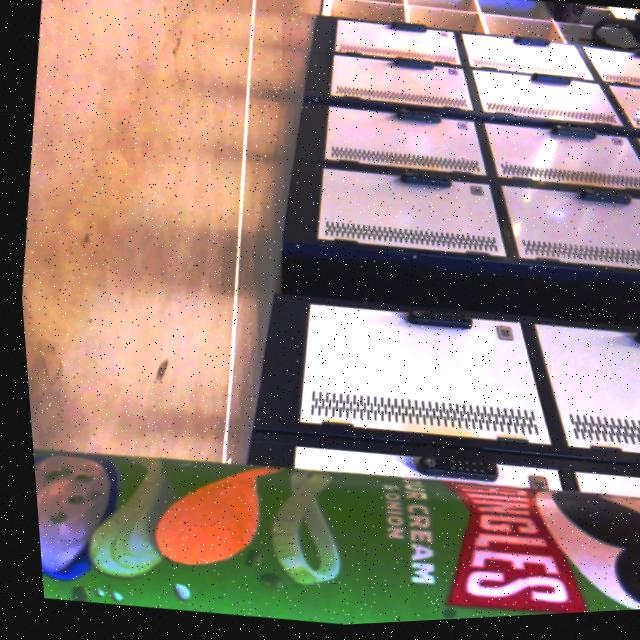greenpringles: (24, 381, 640, 640)
